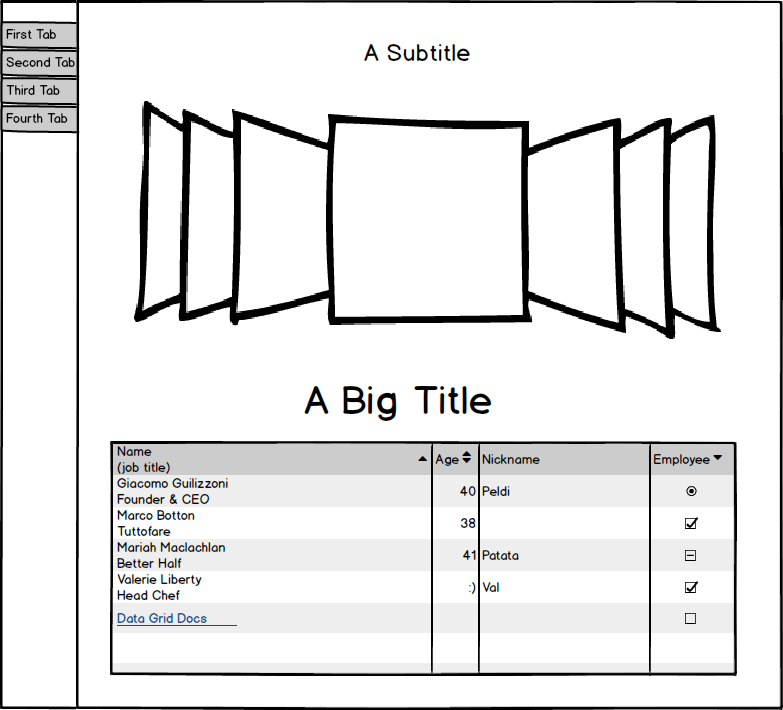h1: (290, 379, 496, 423), (360, 30, 478, 69)
sidebar: (3, 13, 85, 139)
slideshow: (122, 95, 727, 339)
table: (105, 437, 740, 681)
